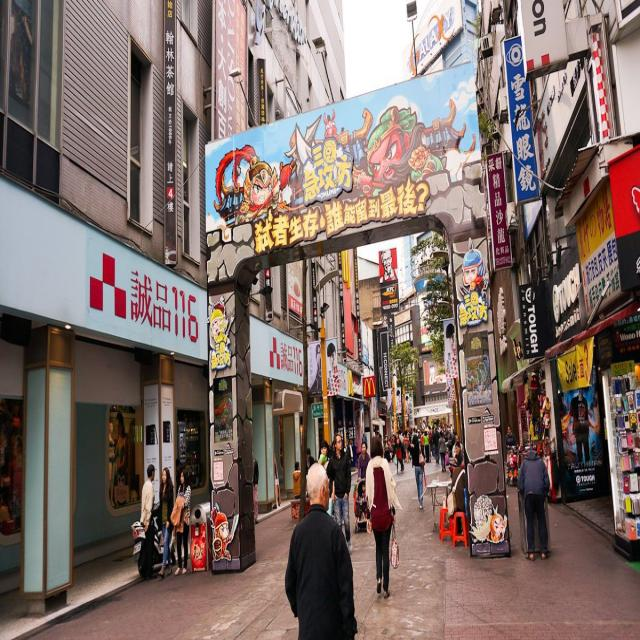body: (284, 459, 359, 639), (363, 434, 404, 601), (516, 446, 552, 562), (327, 432, 354, 556), (562, 381, 597, 471), (368, 130, 417, 192), (136, 462, 159, 584), (237, 162, 288, 214), (170, 466, 192, 576), (208, 503, 243, 571), (156, 464, 175, 581), (108, 412, 130, 502), (447, 450, 468, 535), (406, 432, 427, 511), (310, 339, 338, 395), (460, 238, 486, 298), (316, 438, 335, 518), (356, 441, 371, 521), (443, 319, 458, 376), (378, 247, 398, 283), (356, 481, 369, 525), (392, 430, 405, 474), (352, 404, 366, 441), (252, 457, 259, 525), (505, 446, 518, 482), (438, 430, 447, 474), (504, 424, 519, 450), (432, 424, 441, 466), (305, 446, 312, 498), (292, 460, 301, 500), (387, 388, 400, 415), (453, 440, 465, 467), (343, 438, 354, 465), (452, 433, 463, 458), (403, 430, 411, 464), (439, 424, 454, 442), (383, 434, 391, 464), (423, 431, 430, 464), (388, 430, 395, 462), (420, 429, 426, 462), (351, 440, 358, 468), (398, 430, 404, 459), (409, 427, 420, 442), (428, 425, 433, 456), (175, 458, 179, 492), (405, 394, 410, 414), (330, 438, 336, 453), (378, 433, 382, 444), (421, 426, 428, 432), (453, 433, 456, 443), (409, 448, 411, 462), (422, 418, 425, 426)
